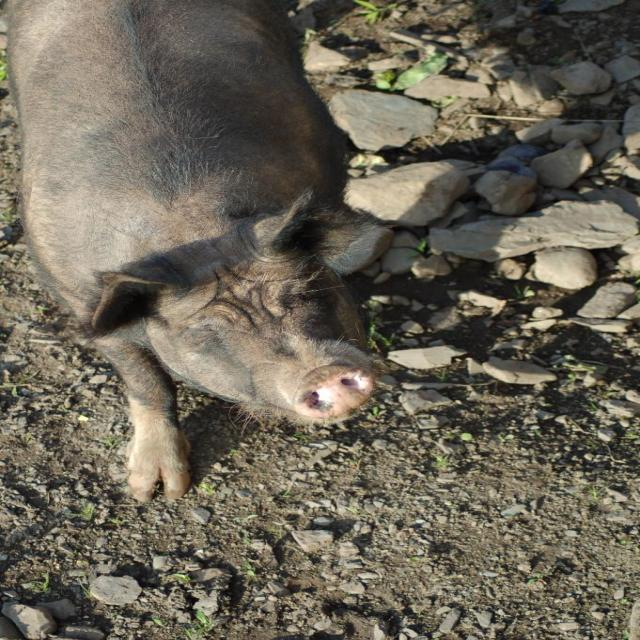Pig: (0, 0, 397, 503)
